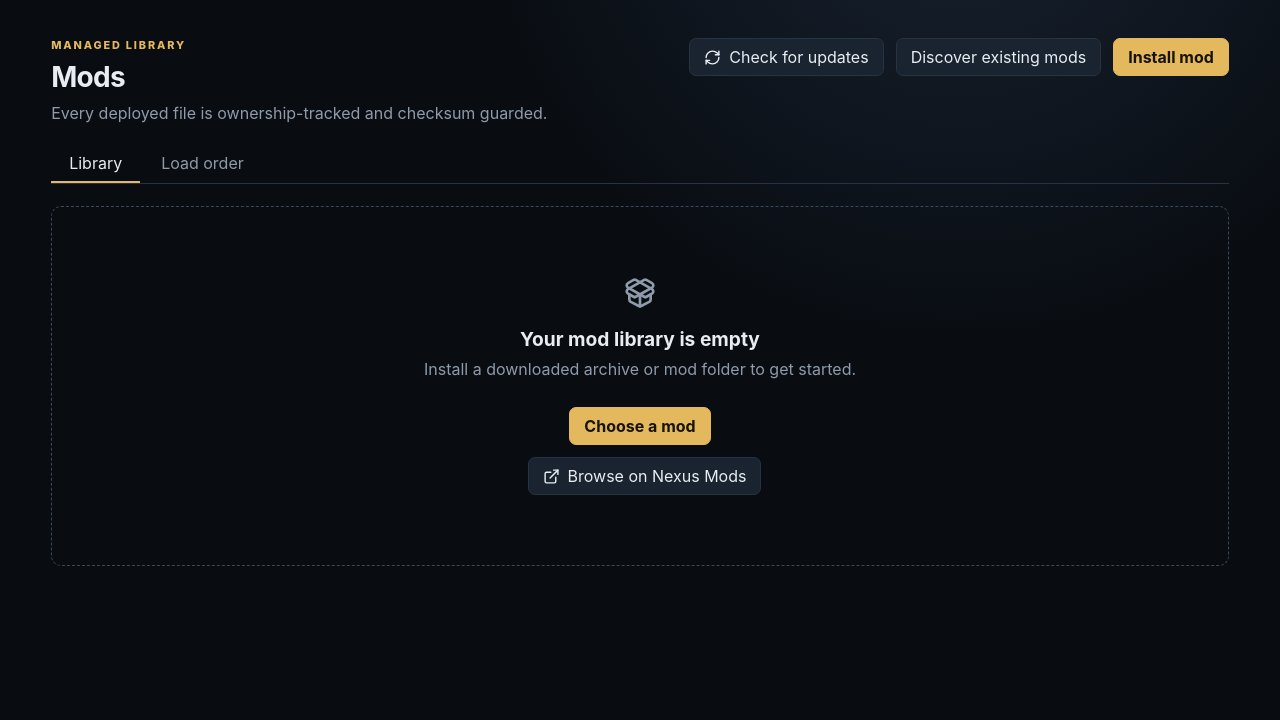
load-order interface › updates the draft winner, previews button ordering, and discards without applying
Step 1. Click the tab "Load order" → (202,164), box [143,145,262,183]
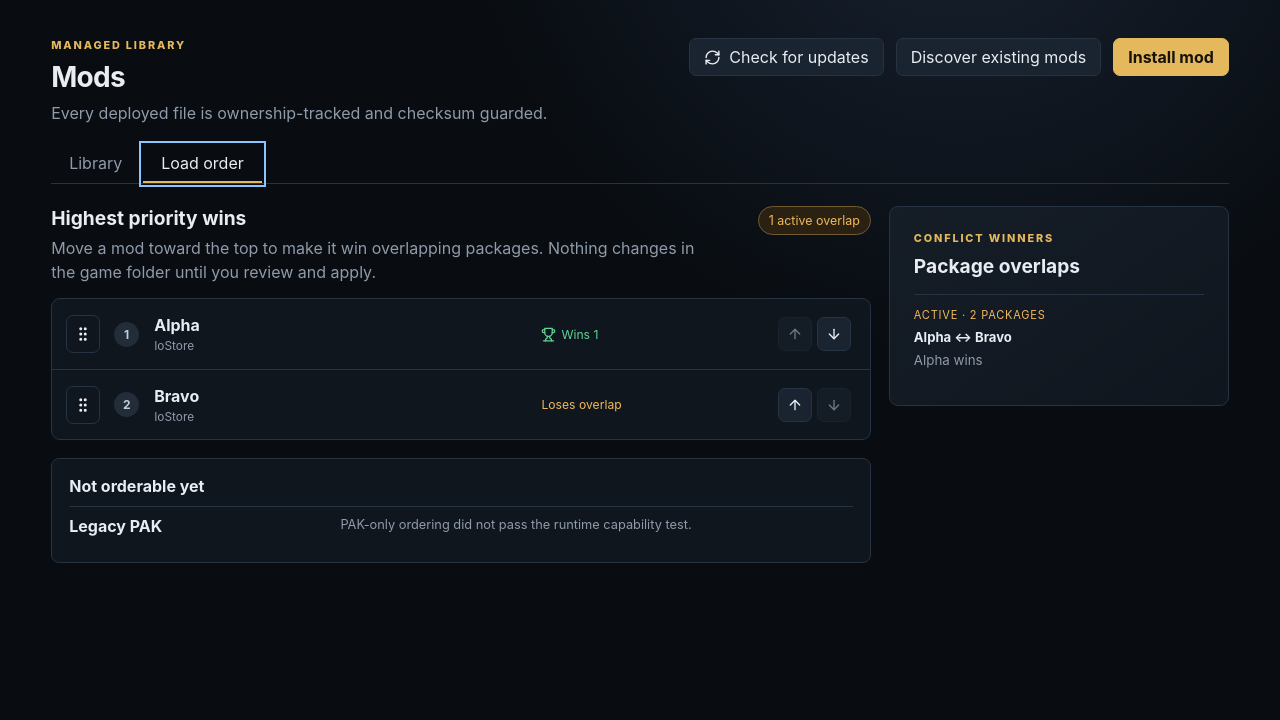
Step 2. Click the button named "Move Bravo up" → (795,405), box [778,388,812,422]
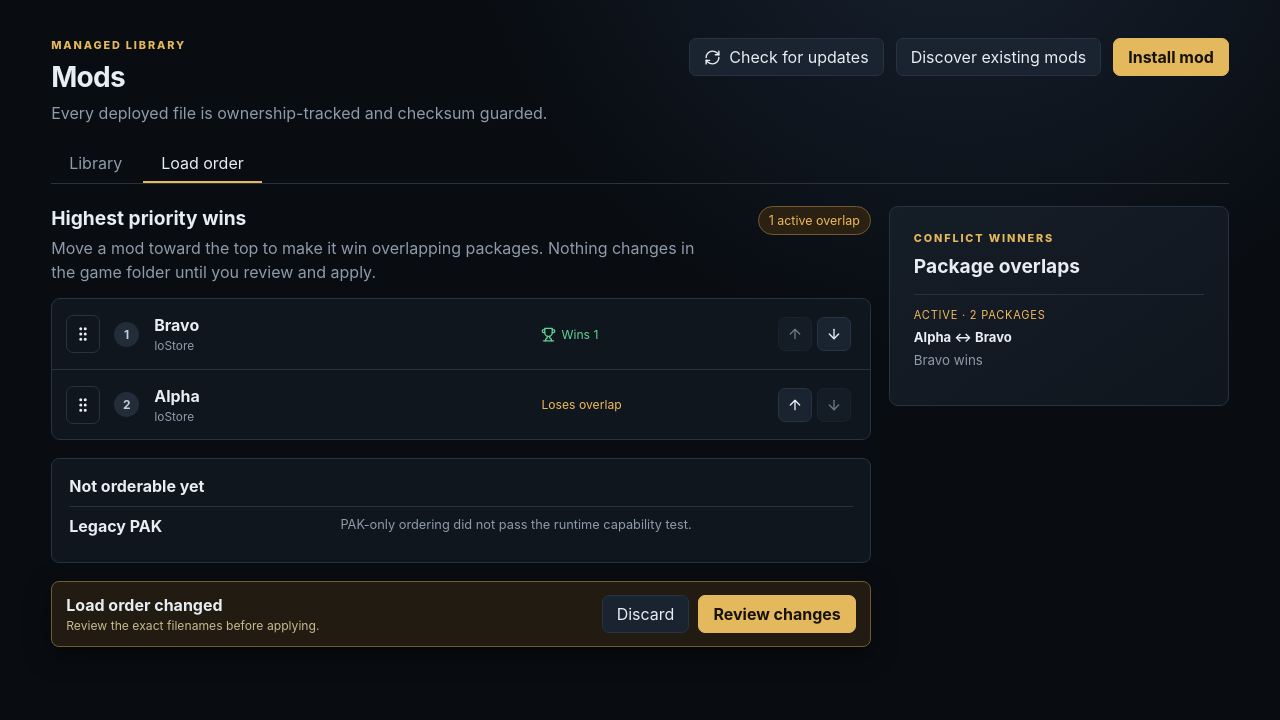
Now the text "Bravo wins" is shown, box [914,352,983,368]
Step 3. Click the button "Review changes" → (777,614), box [698,595,856,633]
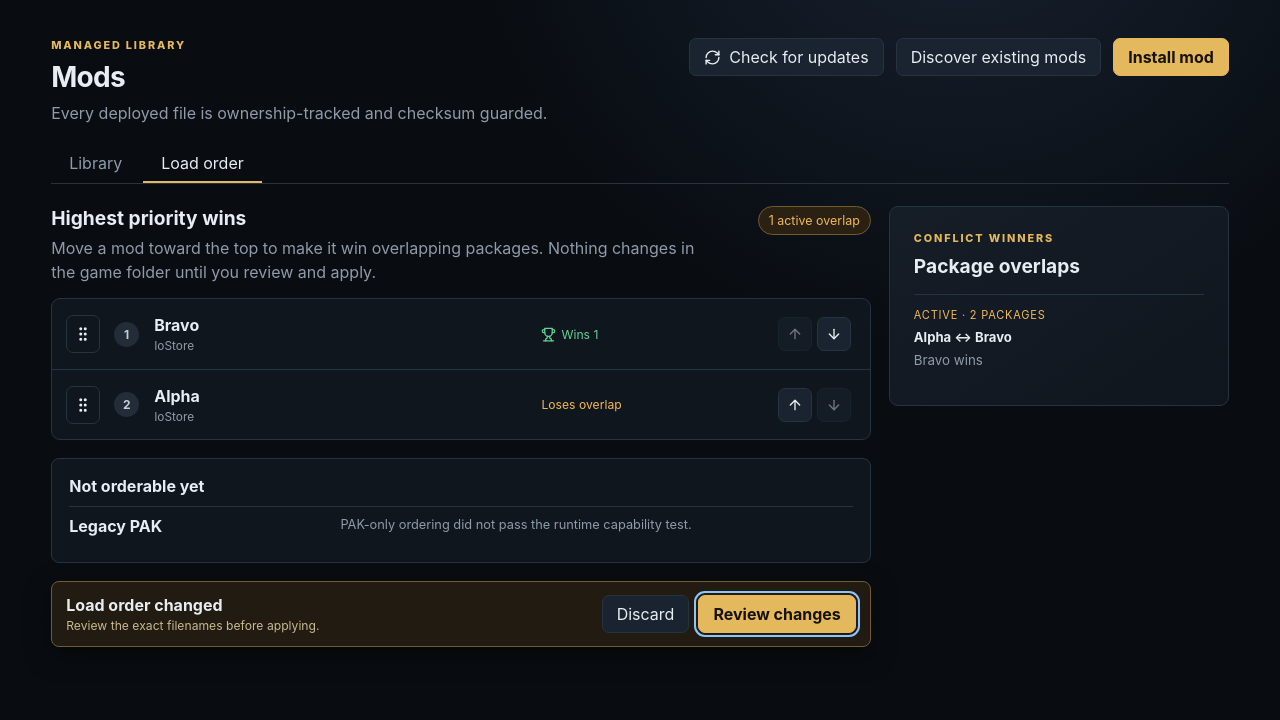
Step 4. Click the button "Discard" → (646,614), box [602,595,689,633]
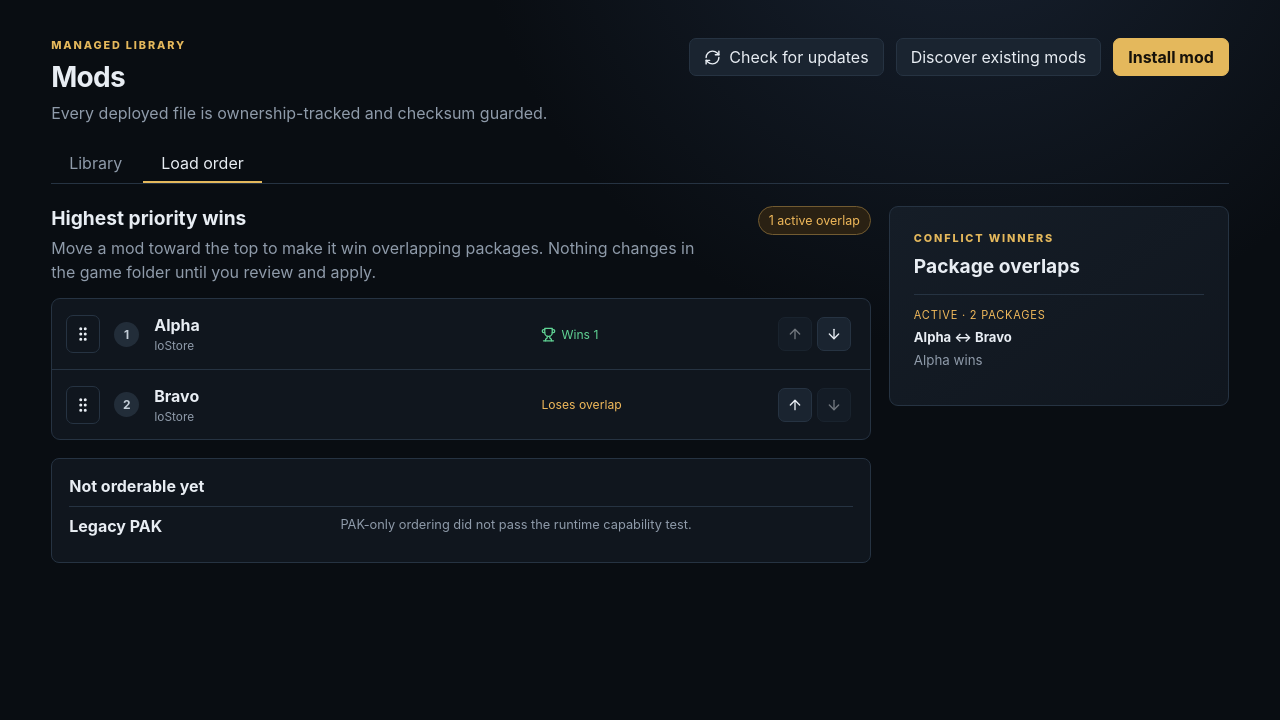
Now the button "Review changes" is gone
